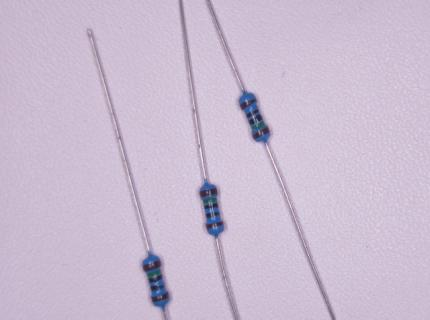Black band: (249, 114, 263, 125), (246, 109, 260, 119), (149, 273, 162, 282), (204, 203, 218, 209), (206, 212, 219, 218), (151, 285, 164, 291)
Brown band: (252, 127, 270, 140), (142, 260, 160, 271), (240, 99, 257, 110), (152, 291, 169, 302), (200, 187, 217, 197), (207, 221, 223, 228)
Green band: (147, 269, 161, 277), (252, 122, 265, 129), (203, 198, 217, 203)
